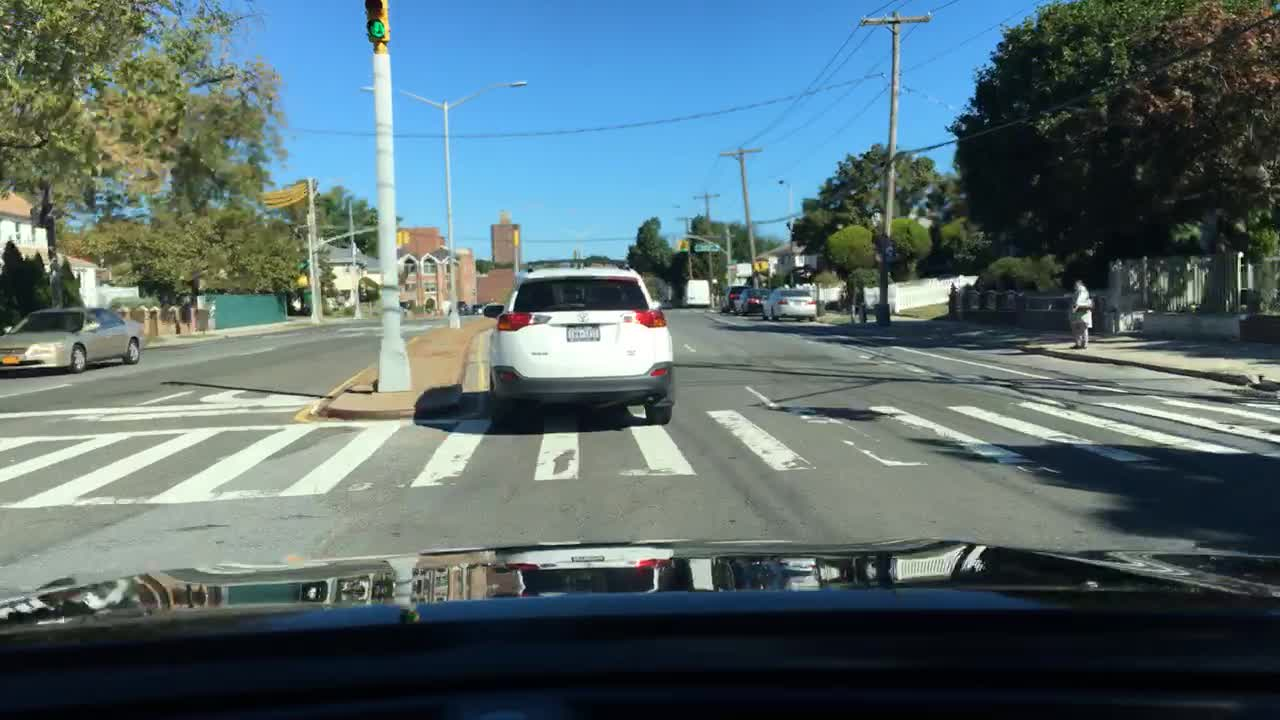car: (481, 261, 674, 425), (0, 305, 140, 374), (762, 285, 820, 321), (734, 285, 770, 315), (718, 286, 742, 309), (448, 301, 469, 312)
person: (1064, 276, 1091, 350)
traffic light: (363, 2, 388, 45)
traffic sign: (692, 244, 720, 253)
